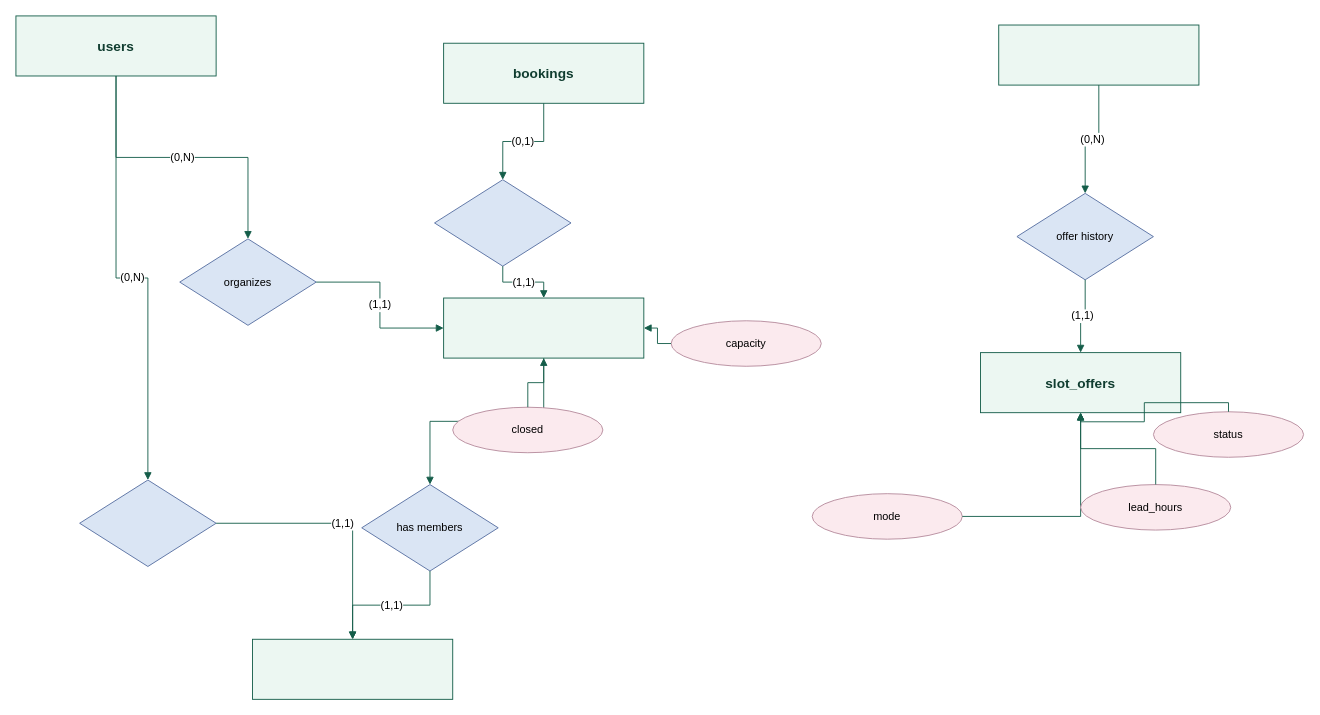
This 1320x715 diagram has some shape labels left out. The centre of each missing label's shape, as x and y in pixels:
"participates" belongs at [147,522].
"room_members" belongs at [352,668].
"rooms" belongs at [543,327].
"slots" belongs at [1098,54].
"source" belongs at [502,222].
